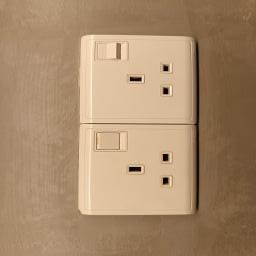outlet: (75, 124, 204, 217), (74, 33, 204, 124)
